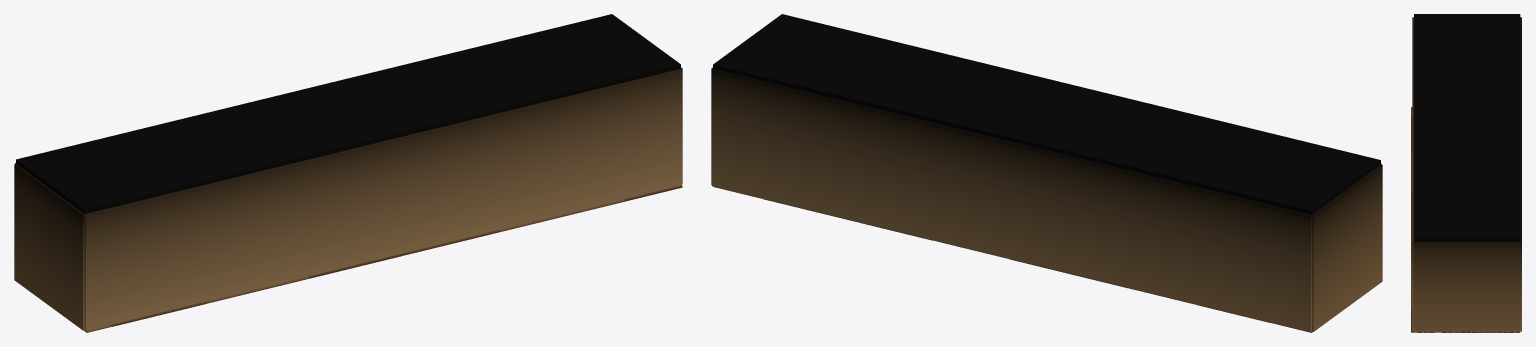
The model's file is mailcar.glb.
The picture shows the model from 3 angles, left to right: view 1: azimuth 30°, elevation 25°; view 2: azimuth 150°, elevation 25°; view 3: azimuth 270°, elevation 25°; orthographic projection. The views are drawn at different scales.
Parts seen in each view (by area): view 1: mailcar.plank.2, mailcar.plank.4, mailcar.plank.5, mailcar.plank.1, mailcar.plank.0; view 2: mailcar.plank.2, mailcar.plank.4, mailcar.plank.5; view 3: mailcar.plank.4, mailcar.plank.5, mailcar.plank.2, mailcar.plank.1, mailcar.plank.0.
Boxes of the visible parts, x1,y1,x2,y2 form: mailcar.plank.2: (15, 69, 681, 330); mailcar.plank.4: (16, 14, 680, 213); mailcar.plank.5: (14, 67, 682, 330); mailcar.plank.1: (111, 185, 682, 326); mailcar.plank.0: (84, 199, 625, 332); mailcar.plank.2: (712, 69, 1381, 332); mailcar.plank.4: (713, 14, 1380, 214); mailcar.plank.5: (711, 67, 1382, 331); mailcar.plank.4: (1414, 14, 1520, 242); mailcar.plank.5: (1414, 242, 1520, 332); mailcar.plank.2: (1412, 17, 1521, 331); mailcar.plank.1: (1411, 116, 1513, 332); mailcar.plank.0: (1411, 107, 1519, 332).
Size of the model in its own units: 14.08 by 2.74 by 2.92.
